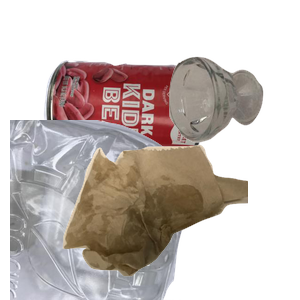glass: (166, 54, 300, 189)
metal: (41, 58, 240, 207)
plastic: (10, 120, 197, 300)
trash: (60, 142, 300, 300)
